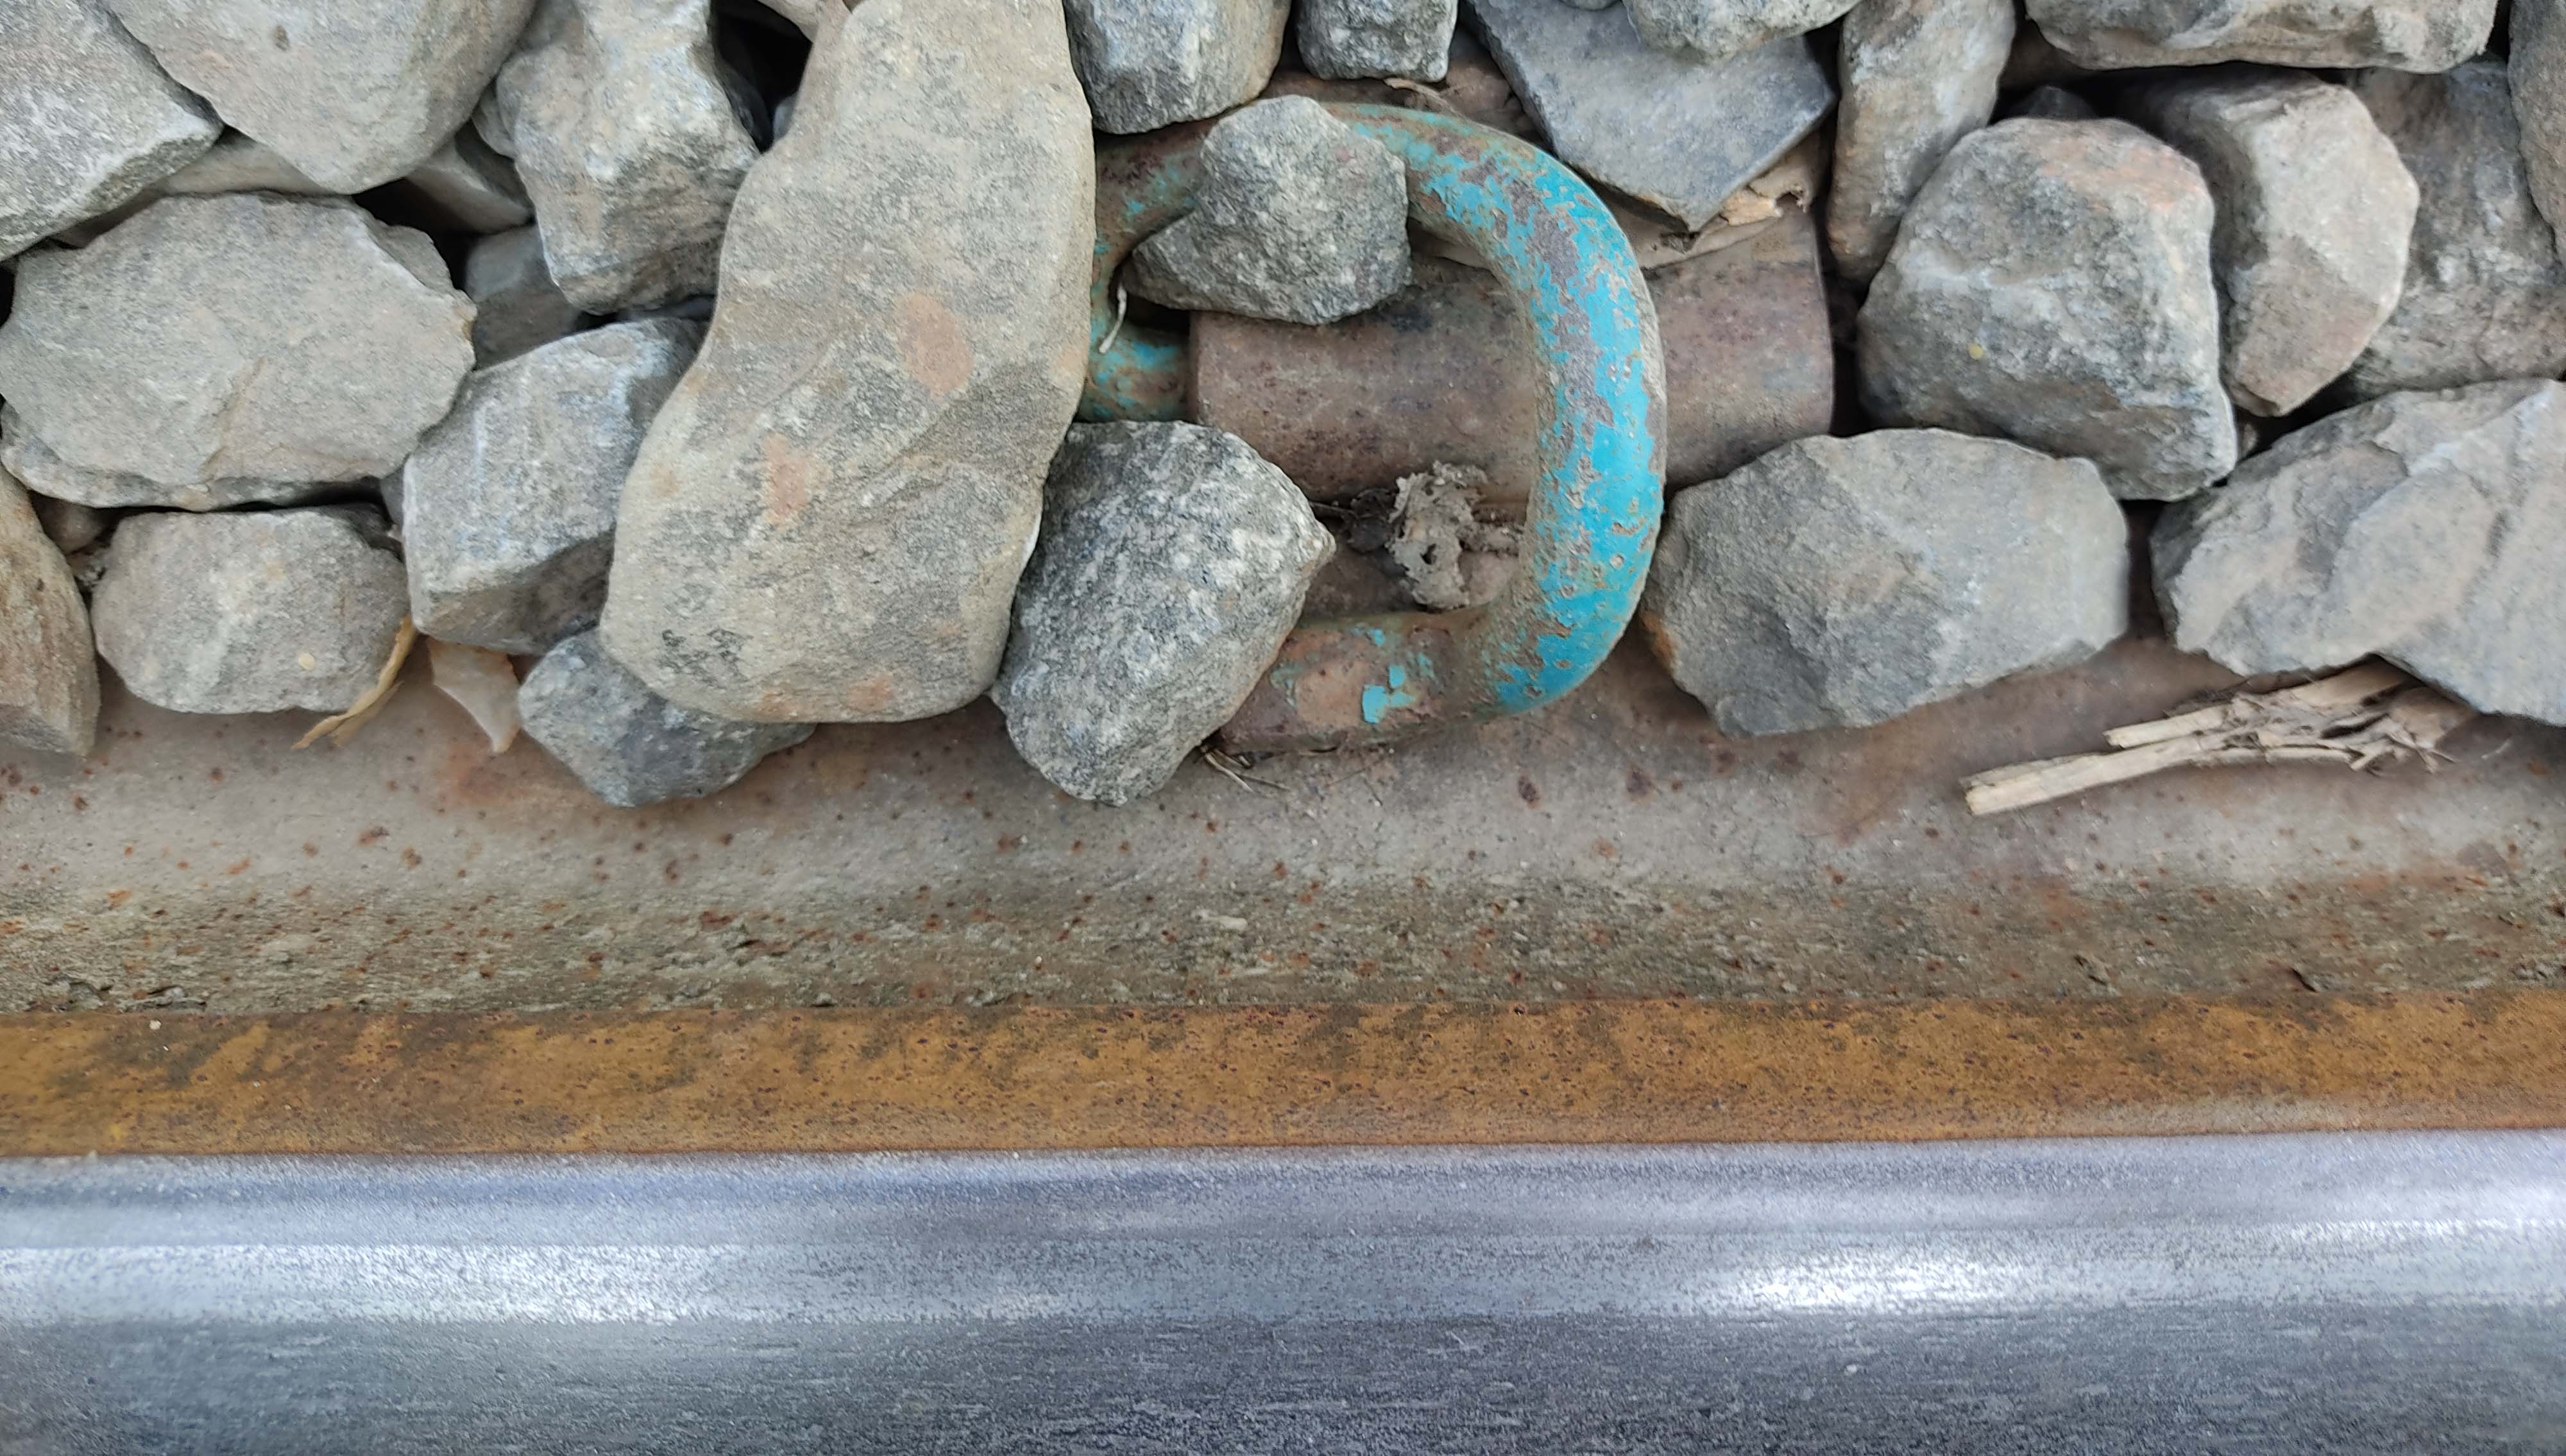error1: (925, 67, 1702, 821)
